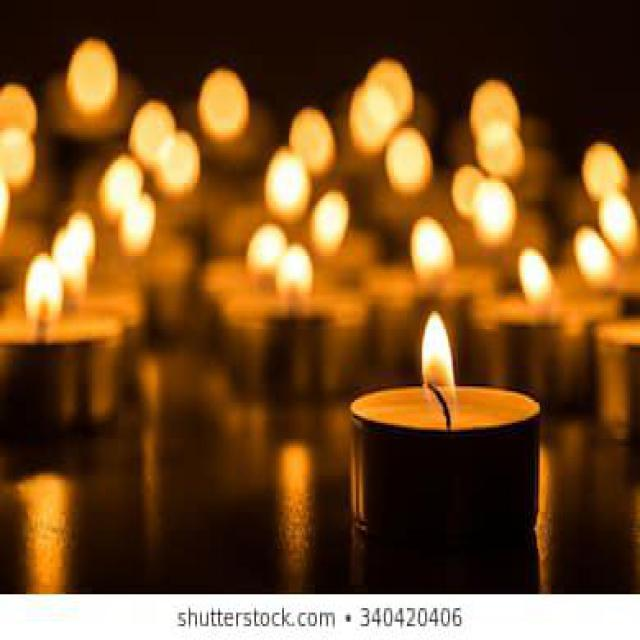Fire: (52, 211, 96, 319), (420, 308, 455, 416), (24, 252, 62, 332), (276, 241, 314, 314)
